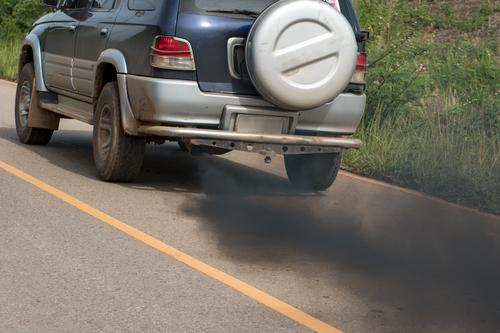smoke: (184, 161, 499, 333)
